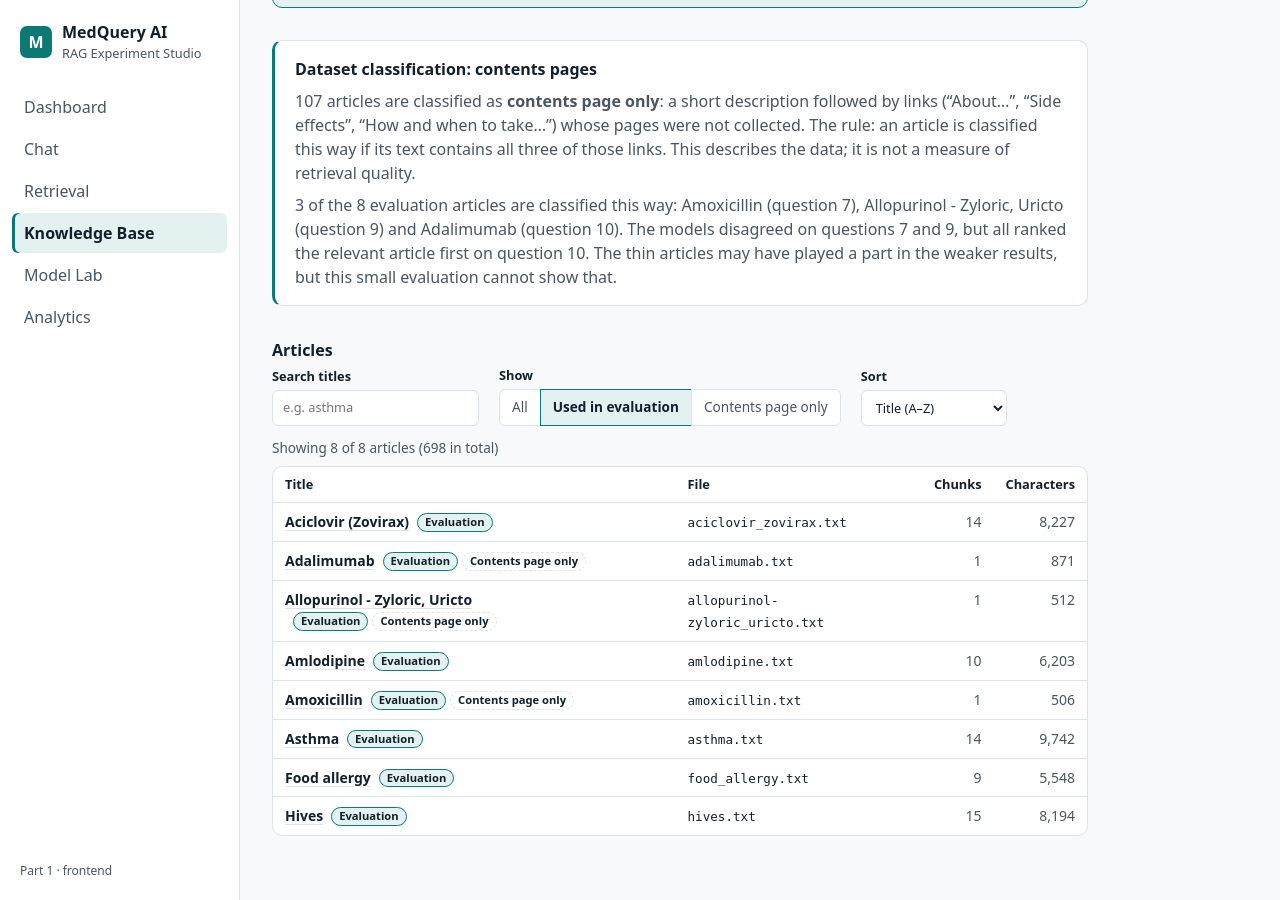
Test: Article detail page › opens from the catalogue at its own address and shows verbatim chunk text
(page scrolled)
Click the link "Asthma". click: [312, 738]
box: 285,729 -> 339,748
(page scrolled)
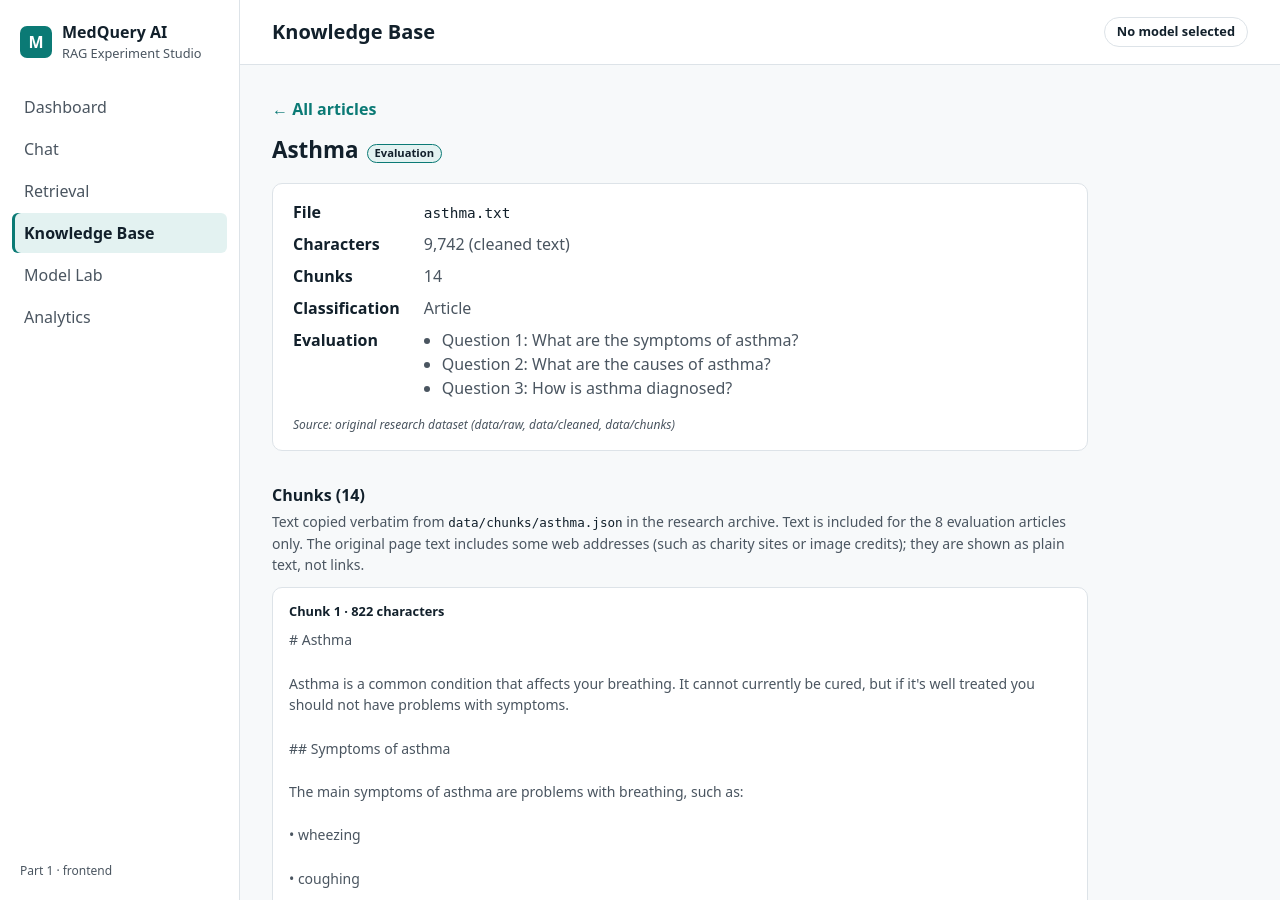
Expected: the heading "Asthma" is shown, 272,134 -> 358,165
Expected: the heading "Chunks (14)" is shown, 272,484 -> 365,506
Expected: the number of elements with class "chunk-text" is 14
